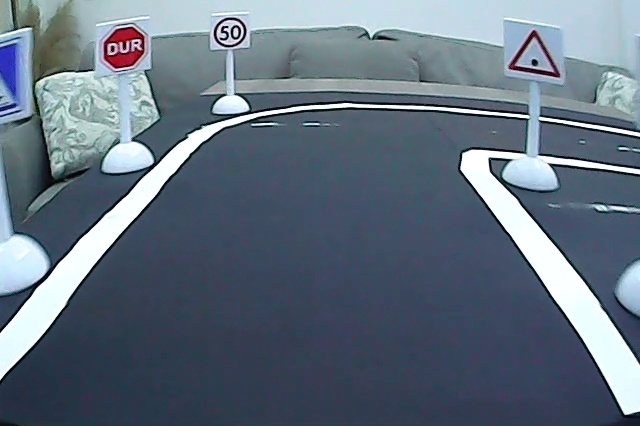green light: (503, 25, 564, 84)
speed limit 50: (212, 13, 249, 50)
stop sign: (98, 21, 150, 74)
